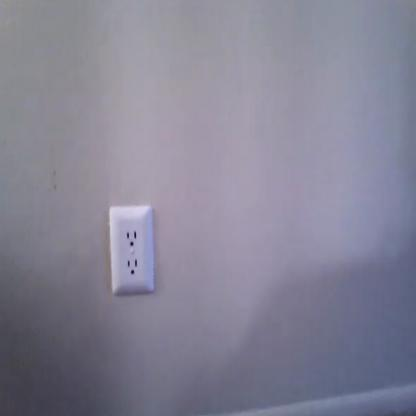OUTLET: (108, 204, 156, 296)
